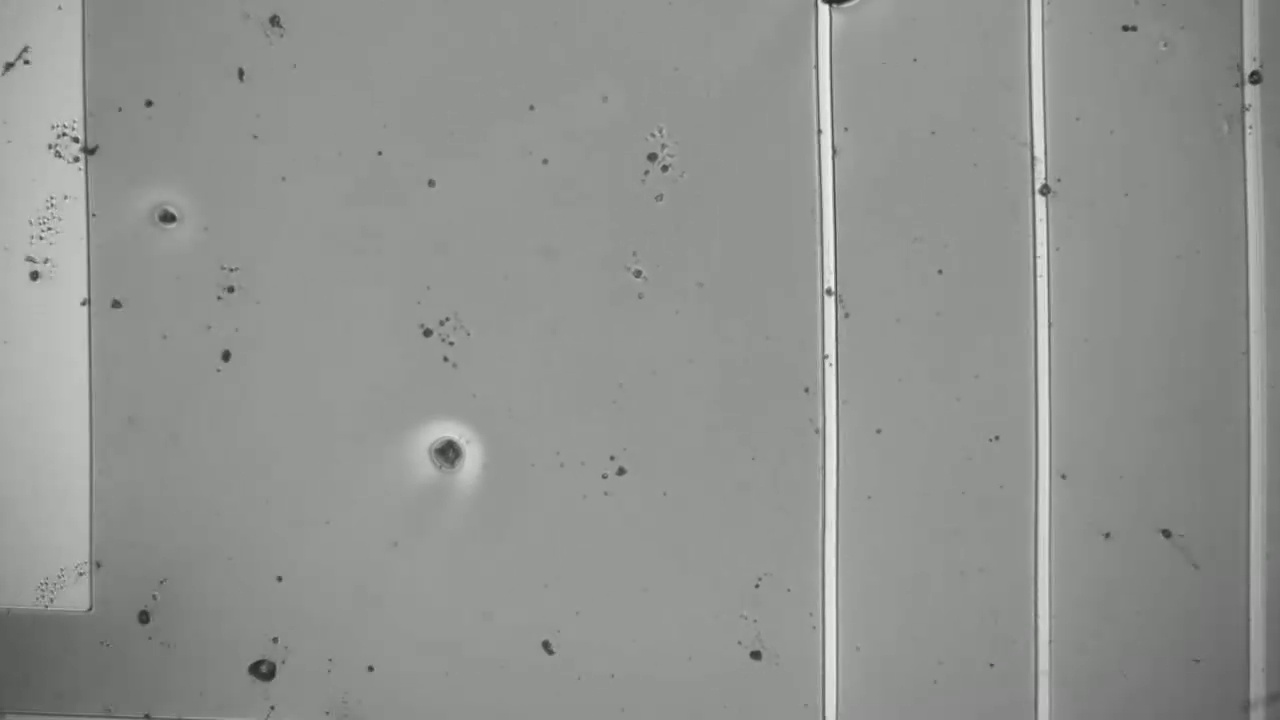stains_enbedded: (1233, 60, 1270, 96), (808, 275, 847, 305), (1024, 178, 1056, 204)
